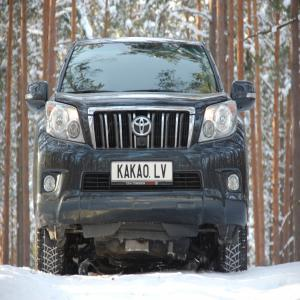Vehicle-registration-plate: (117, 148, 172, 196)
